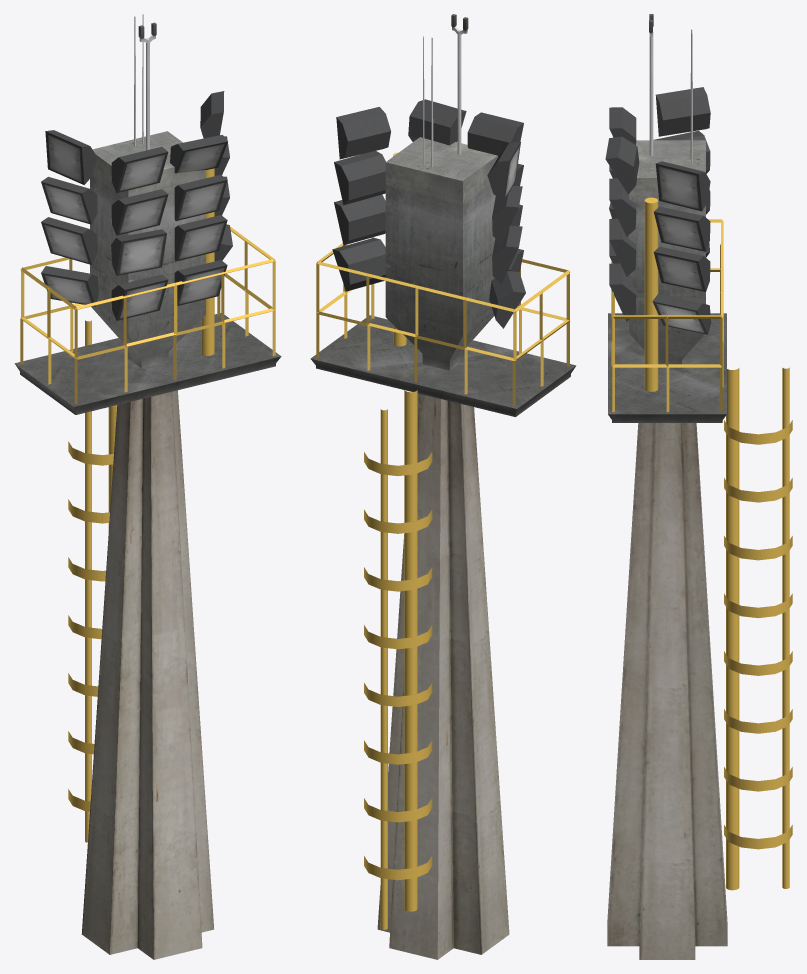
The model's file is POSTE_LUZ_SBPA.gltf.
The picture shows the model from 3 angles, left to right: view 1: azimuth 30°, elevation 25°; view 2: azimuth 150°, elevation 25°; view 3: azimuth 270°, elevation 25°; orthographic projection.
Visible parts, largest first — view 1: node1; view 2: node1; view 3: node1.
Part boxes in pixels (left/top/right/bottom): node1: left=14, top=14, right=281, bottom=959; node1: left=310, top=14, right=576, bottom=959; node1: left=605, top=14, right=792, bottom=959.
Bounding box in the file's own units: 3.12 × 13.13 × 2.44.
